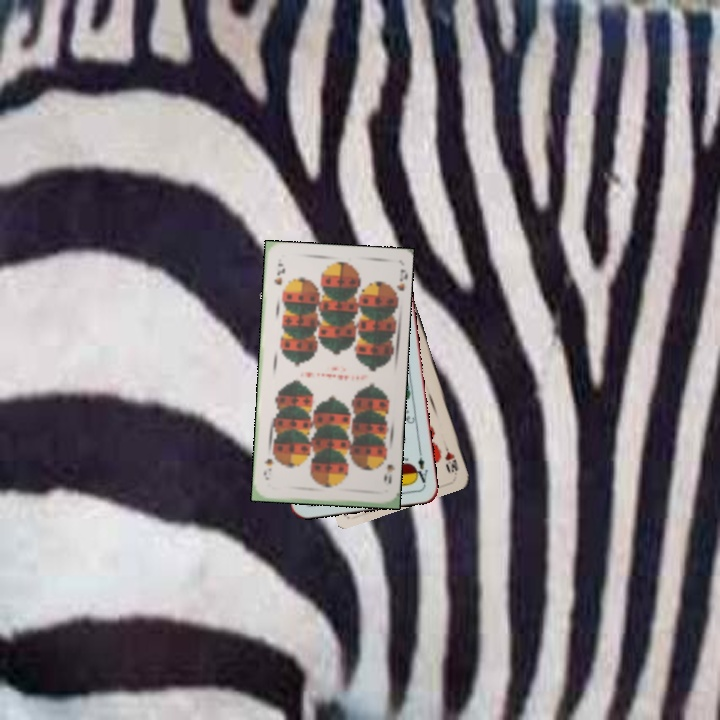EA: (410, 446, 431, 487)
H10: (439, 436, 460, 474)
S9: (377, 451, 397, 486), (270, 259, 287, 288)
